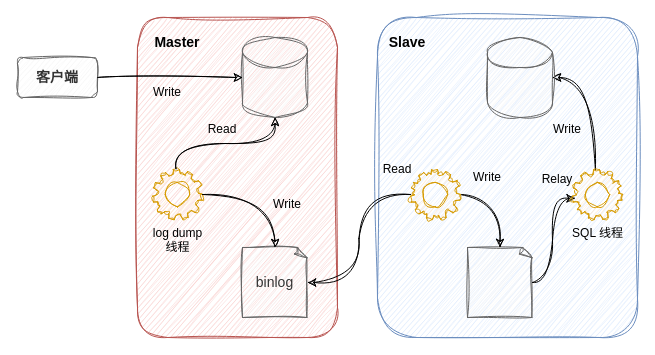
Some shapes in this 655 by 355 pixel diagram are drawn without their labels. The centre of each missing label's shape, as x and y in pixels:
IO 线程: pixel 435 194
relay log: pixel 499 282
